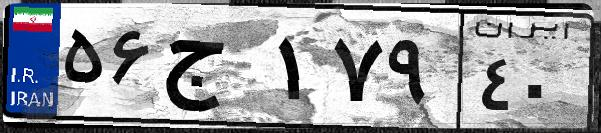0: (525, 38, 570, 115)
1: (270, 28, 330, 110)
4: (475, 38, 525, 113)
5: (57, 26, 110, 100)
6: (110, 28, 158, 98)
7: (330, 28, 385, 110)
9: (385, 28, 445, 110)
ج: (158, 20, 270, 120)
